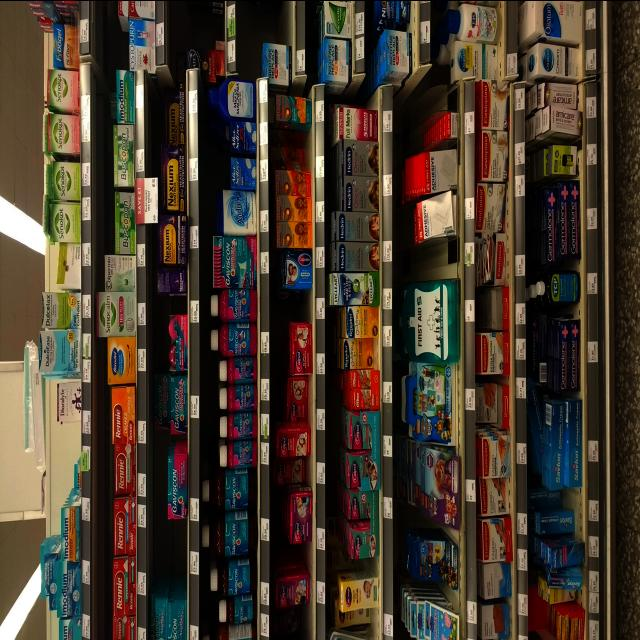empty_space: (155, 525, 185, 573), (407, 244, 456, 272), (250, 2, 290, 35)
